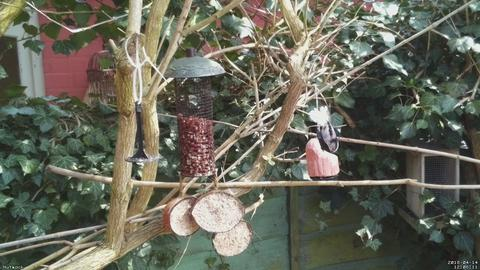long tailed tit: (322, 101, 339, 154)
